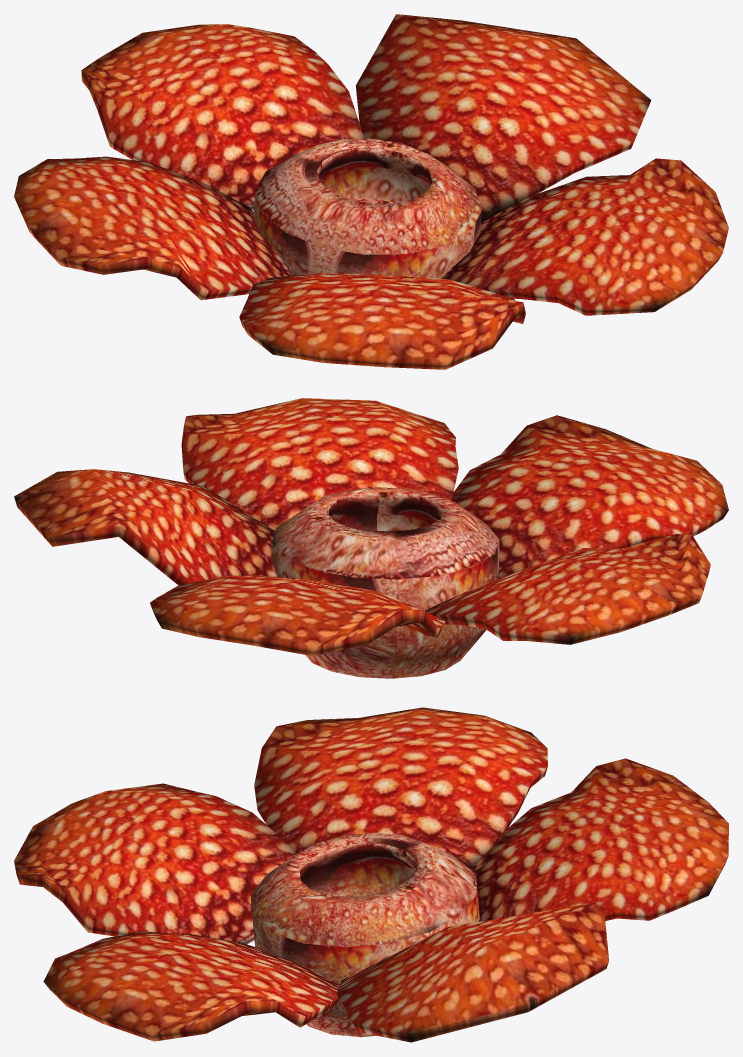
File: rafflesianormalmap.fbx
3 views of the same model, one above another, from view 1: azimuth 30°, elevation 25°; view 2: azimuth 150°, elevation 25°; view 3: azimuth 270°, elevation 25° (orthographic).
Visible parts, largest first — view 1: Plane.001; view 2: Plane.001; view 3: Plane.001.
Boxes of the visible parts, x1,y1,x2,y2 form: Plane.001: [14, 14, 728, 369]; Plane.001: [14, 398, 728, 678]; Plane.001: [14, 707, 728, 1042].
Size of the model in its own units: 55.4 by 15.17 by 54.79.
